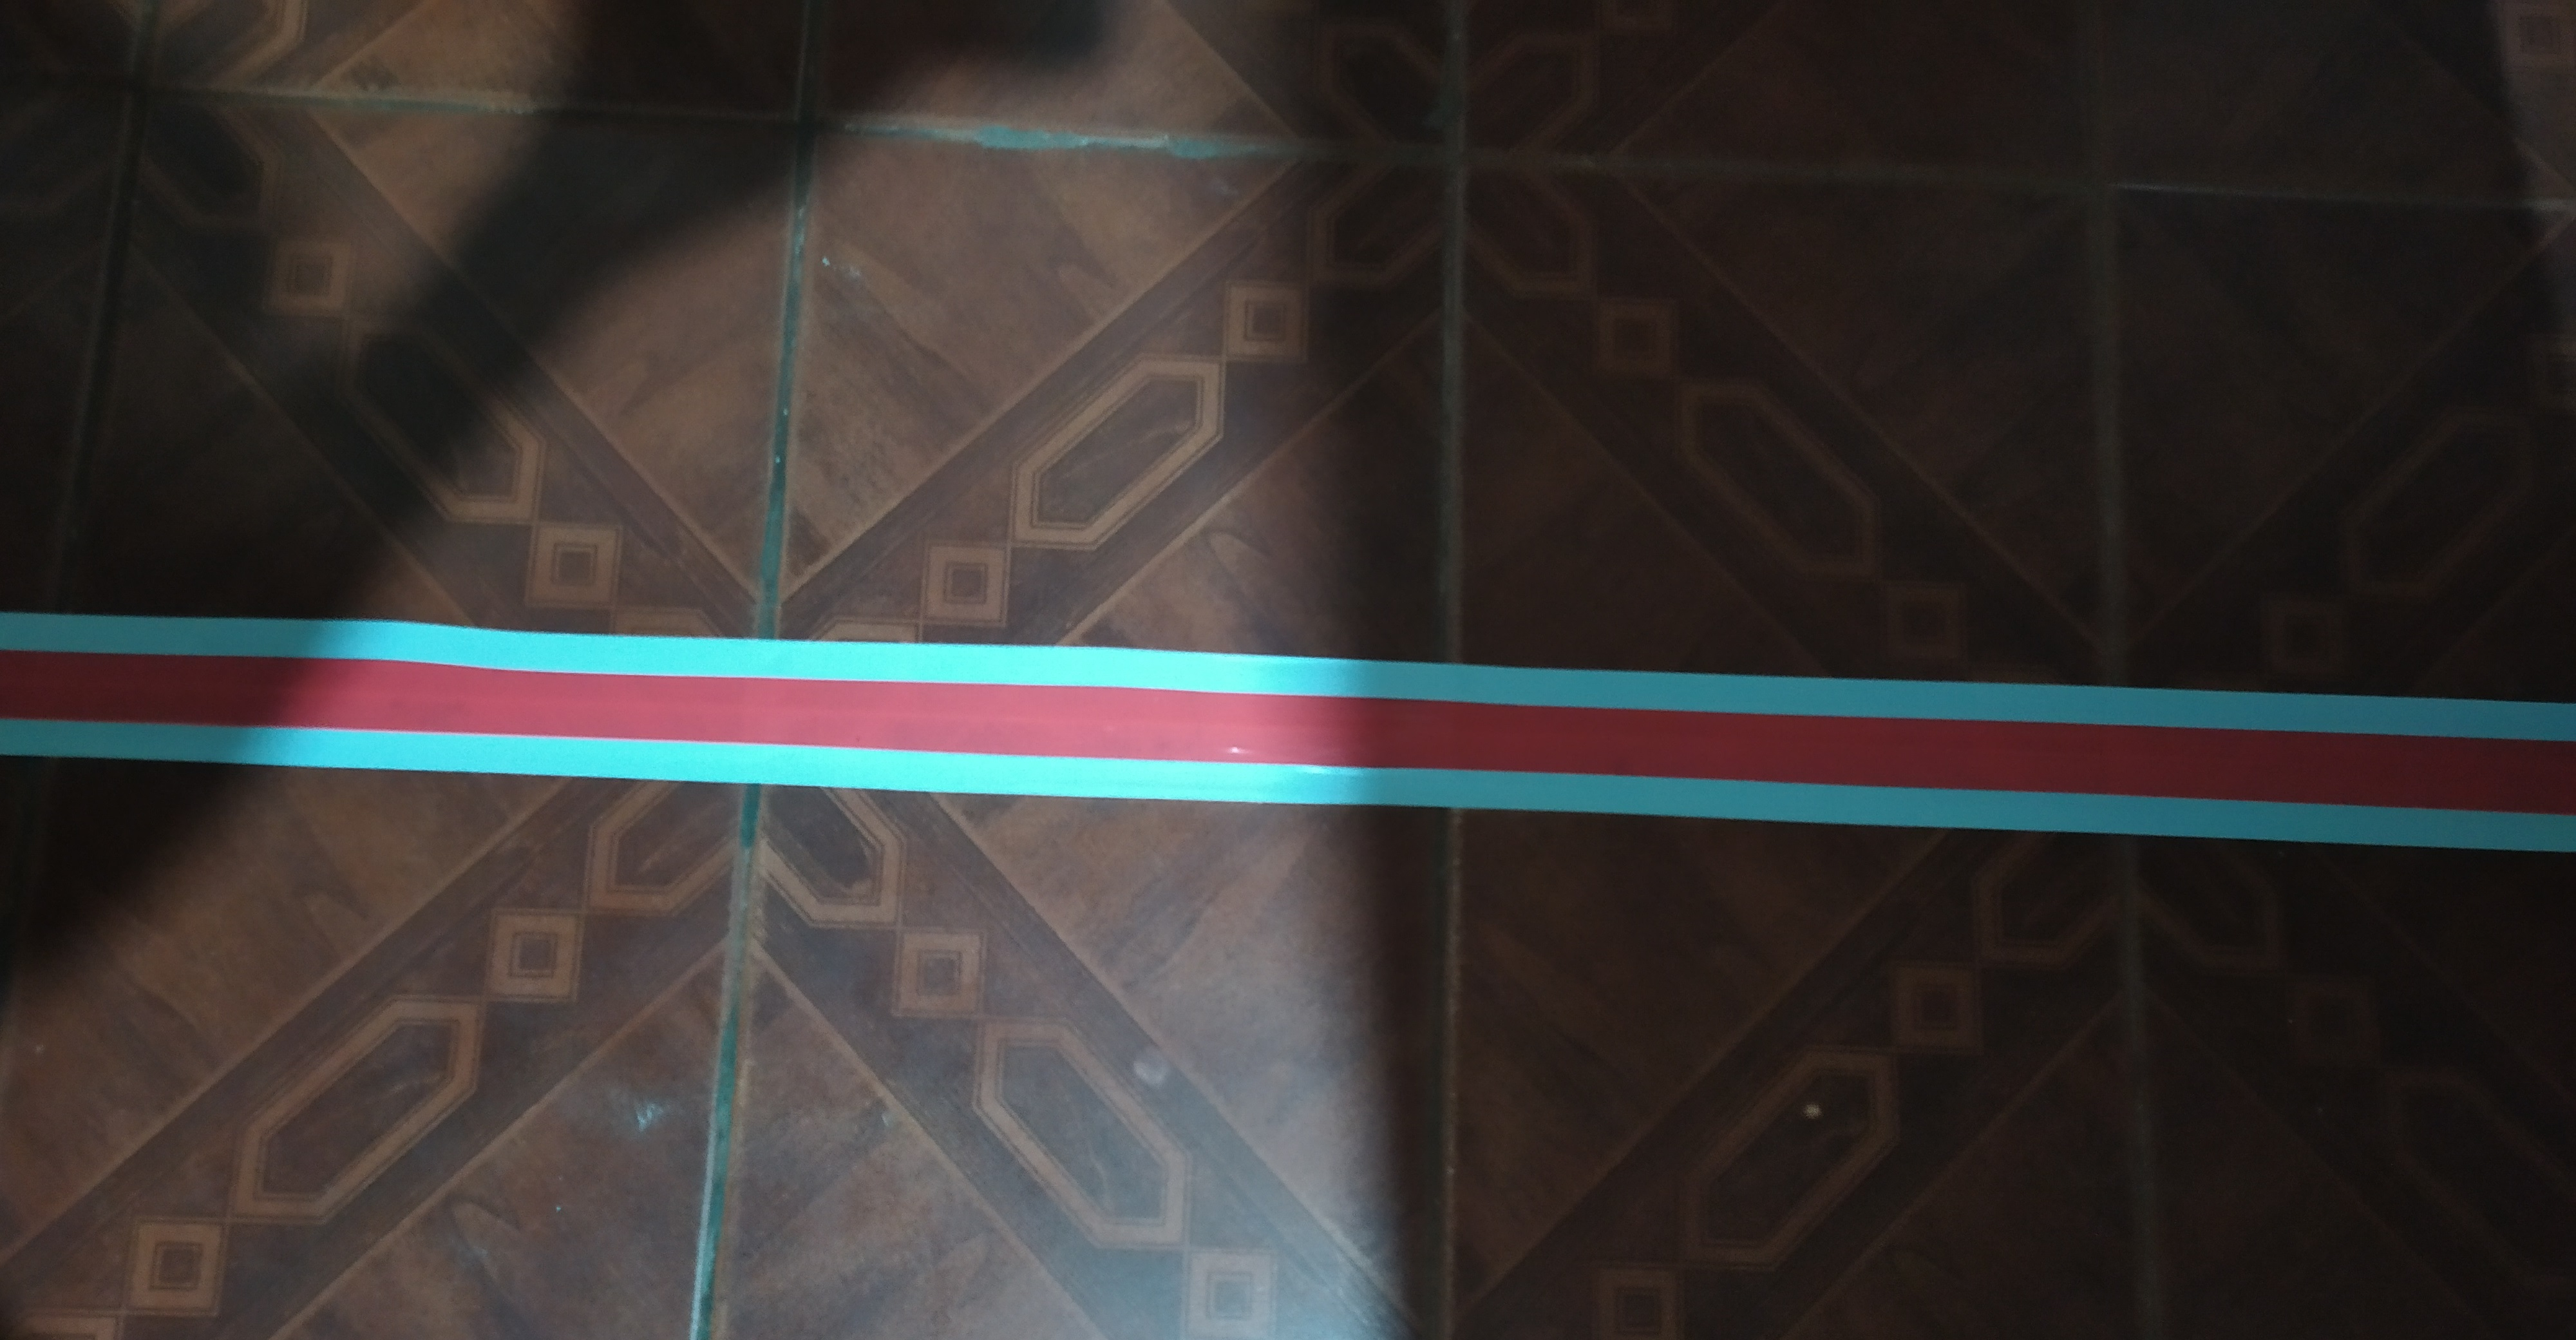faixa_reta: (17, 578, 2576, 863)
